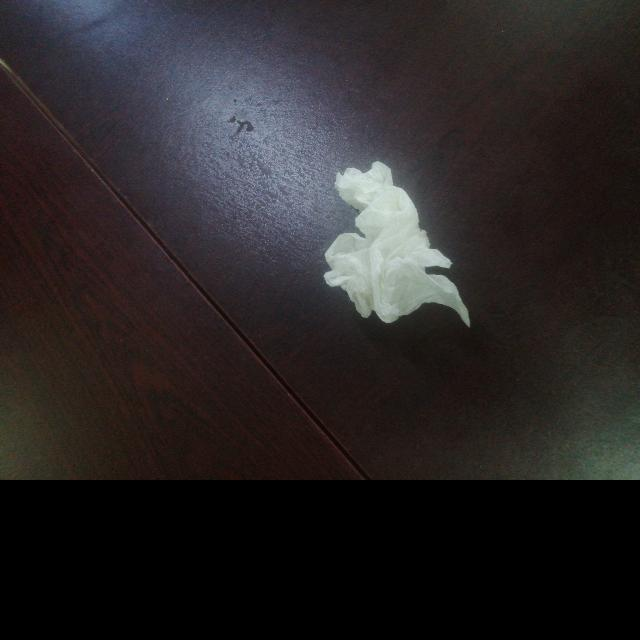kitchen paper: (320, 158, 476, 336)
